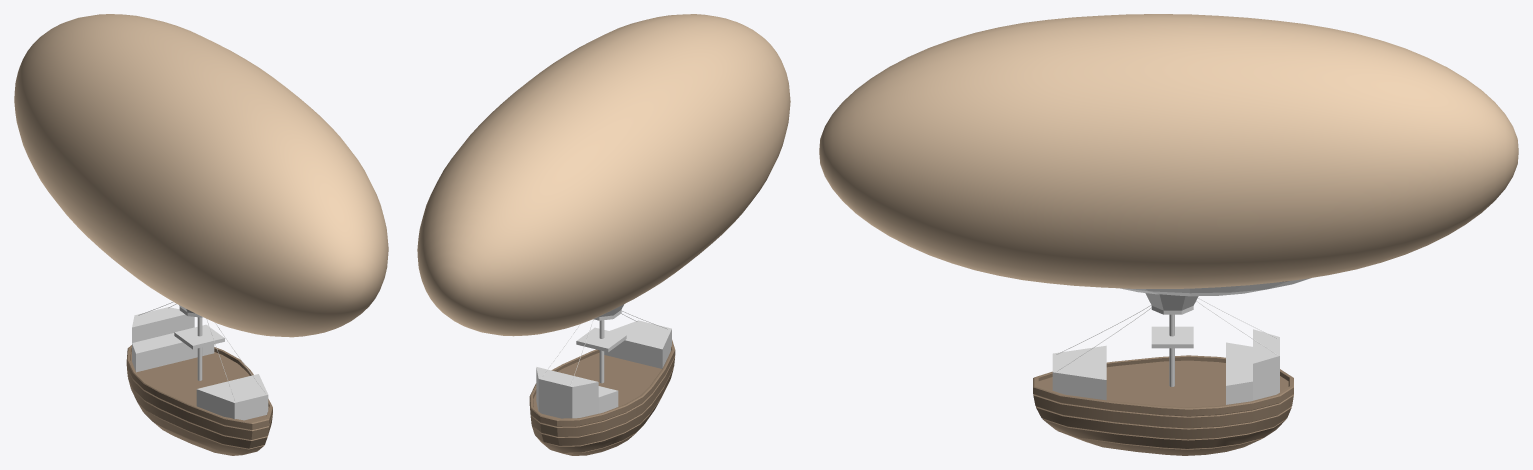
Rendered from littleairship.fbx.
The picture shows the model from 3 angles, left to right: view 1: azimuth 30°, elevation 25°; view 2: azimuth 150°, elevation 25°; view 3: azimuth 270°, elevation 25°; orthographic projection. The views are drawn at different scales.
Parts seen in each view (by area): view 1: Sphere.001, hull.001, 立方体.003, 立方体.002, 立方体.006; view 2: Sphere.001, hull.001, 立方体.003, 立方体.002, 立方体.006; view 3: Sphere.001, hull.001, 立方体.003, 立方体.002, 球体.002, 立方体.006, 立方体.008.
Boxes of the visible parts, x1,y1,x2,y2 form: Sphere.001: [14, 14, 388, 337]; hull.001: [126, 345, 272, 455]; 立方体.003: [132, 307, 214, 372]; 立方体.002: [196, 374, 268, 420]; 立方体.006: [174, 324, 224, 349]; Sphere.001: [417, 14, 790, 336]; hull.001: [529, 340, 675, 455]; 立方体.003: [536, 367, 618, 418]; 立方体.002: [604, 320, 671, 368]; 立方体.006: [576, 327, 626, 352]; Sphere.001: [819, 14, 1518, 288]; hull.001: [1033, 355, 1293, 455]; 立方体.003: [1226, 329, 1279, 404]; 立方体.002: [1052, 345, 1106, 400]; 球体.002: [1120, 278, 1310, 296]; 立方体.006: [1151, 326, 1193, 348]; 立方体.008: [1145, 293, 1198, 314].
Size of the model in its own units: 573 by 948 by 1456.
